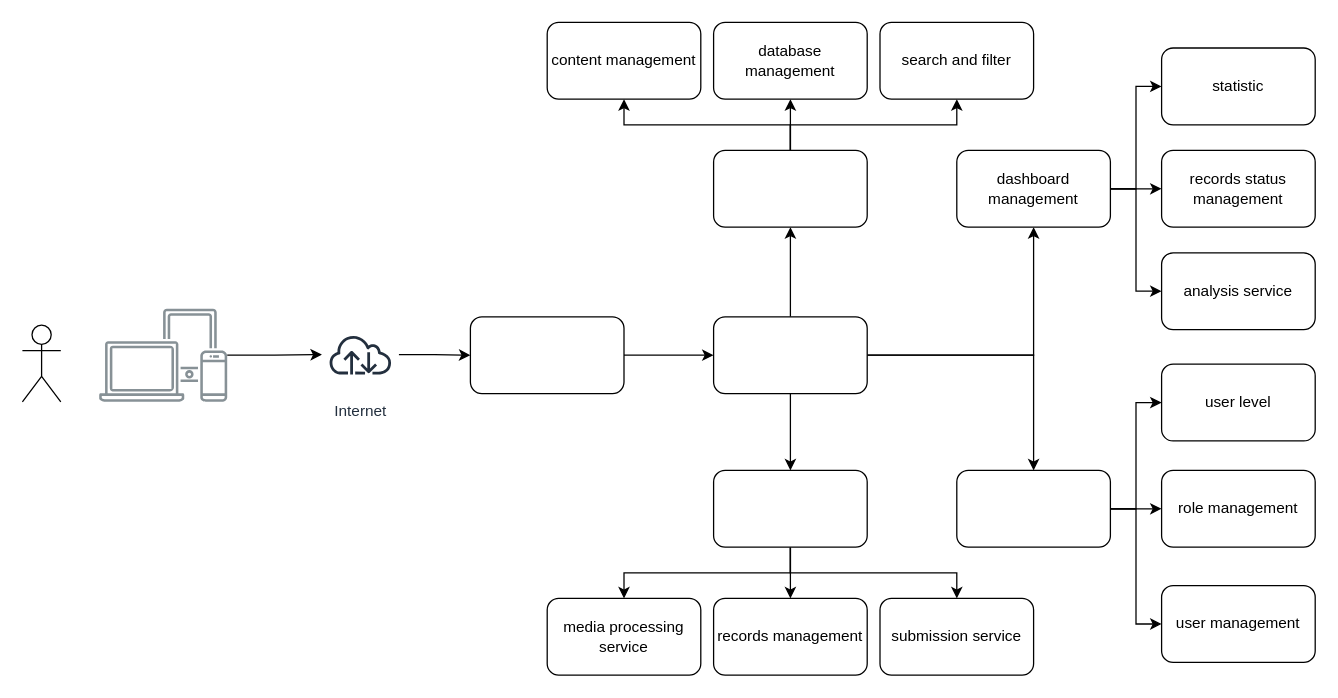
This 1338x698 diagram has some shape labels left out. Each missing label, with the box of its shape:
Actor: (21, 324, 61, 402)
devices: (99, 308, 227, 401)
Login and verification: (469, 316, 624, 394)
survey records: (712, 469, 867, 547)
Tree information: (712, 149, 867, 227)
user information: (956, 469, 1110, 547)
web base core function: (712, 316, 867, 394)
